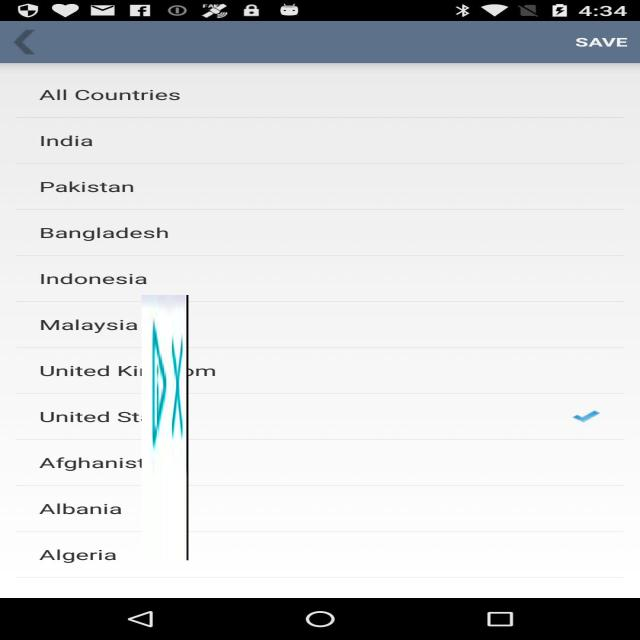sneaking: (142, 295, 188, 560)
